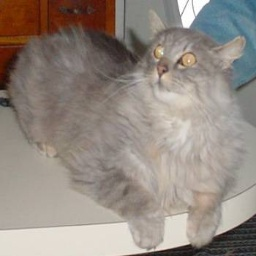cat: (8, 24, 238, 249)
